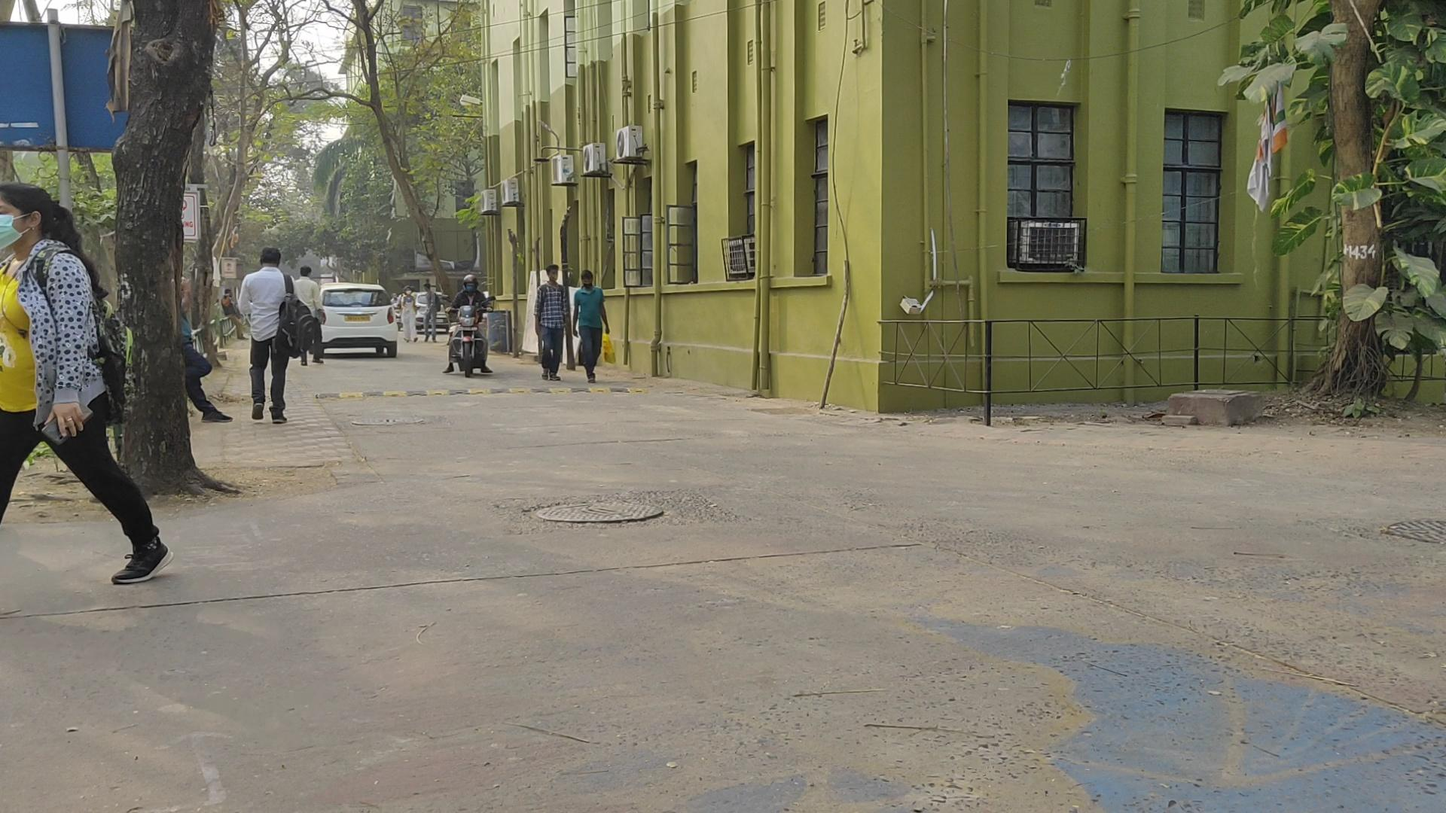bike: (447, 275, 495, 378)
car: (319, 279, 400, 364)
